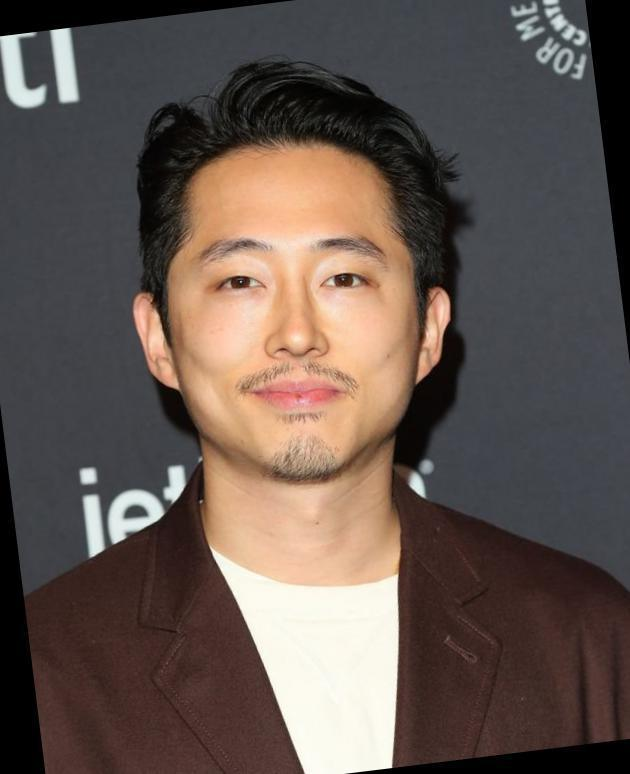Sober: (179, 154, 409, 458)
